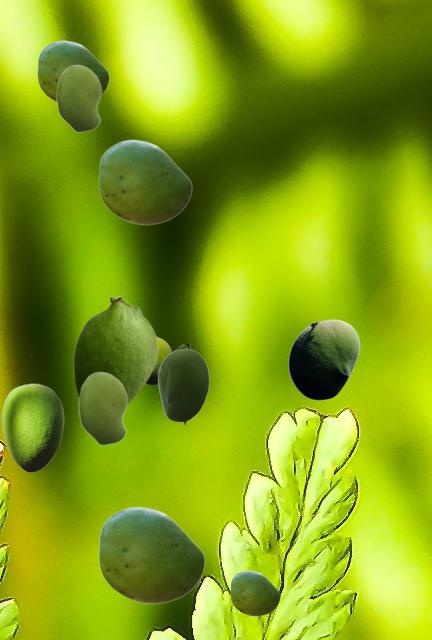green_mango: (98, 506, 204, 603), (73, 295, 157, 405), (98, 139, 191, 224), (288, 319, 359, 399), (1, 383, 63, 471), (37, 40, 108, 102), (157, 344, 208, 425), (78, 371, 127, 445), (56, 64, 101, 132), (230, 570, 279, 615), (146, 337, 171, 384)
